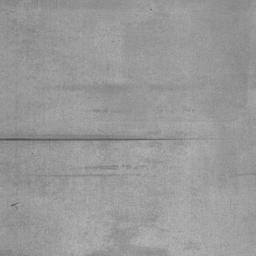Crease: (0, 135, 184, 142), (103, 84, 128, 92), (85, 165, 118, 170), (62, 85, 87, 91)
